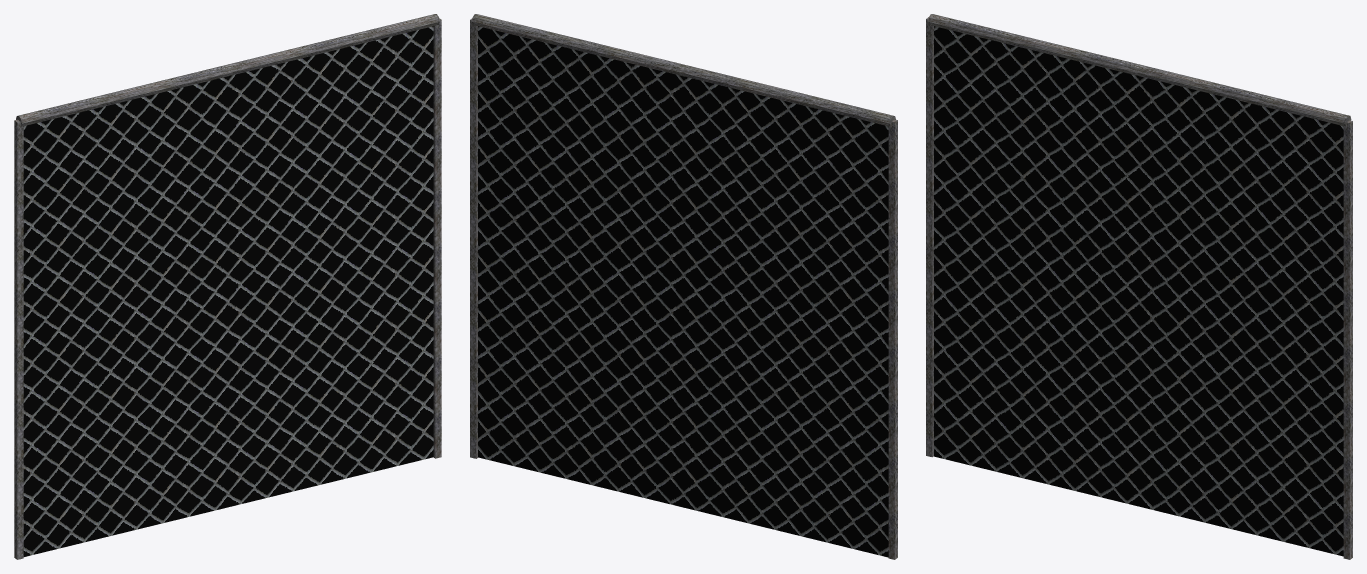
File: Fence.fbx
3 views of the same model, side by side, from view 1: azimuth 30°, elevation 25°; view 2: azimuth 150°, elevation 25°; view 3: azimuth 330°, elevation 25° (orthographic).
Visible parts, largest first — view 1: Cube; view 2: Cube; view 3: Cube.
Part boxes in pixels (bbox=[...]): Cube: bbox=[14, 14, 441, 559]; Cube: bbox=[470, 14, 897, 559]; Cube: bbox=[926, 14, 1352, 559].
Size of the model in its own units: 203 by 203 by 5.
Materials: 1 (1 with a texture image).
